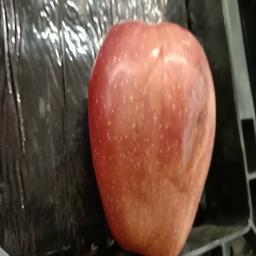Apple Fresh: (83, 17, 220, 256)
